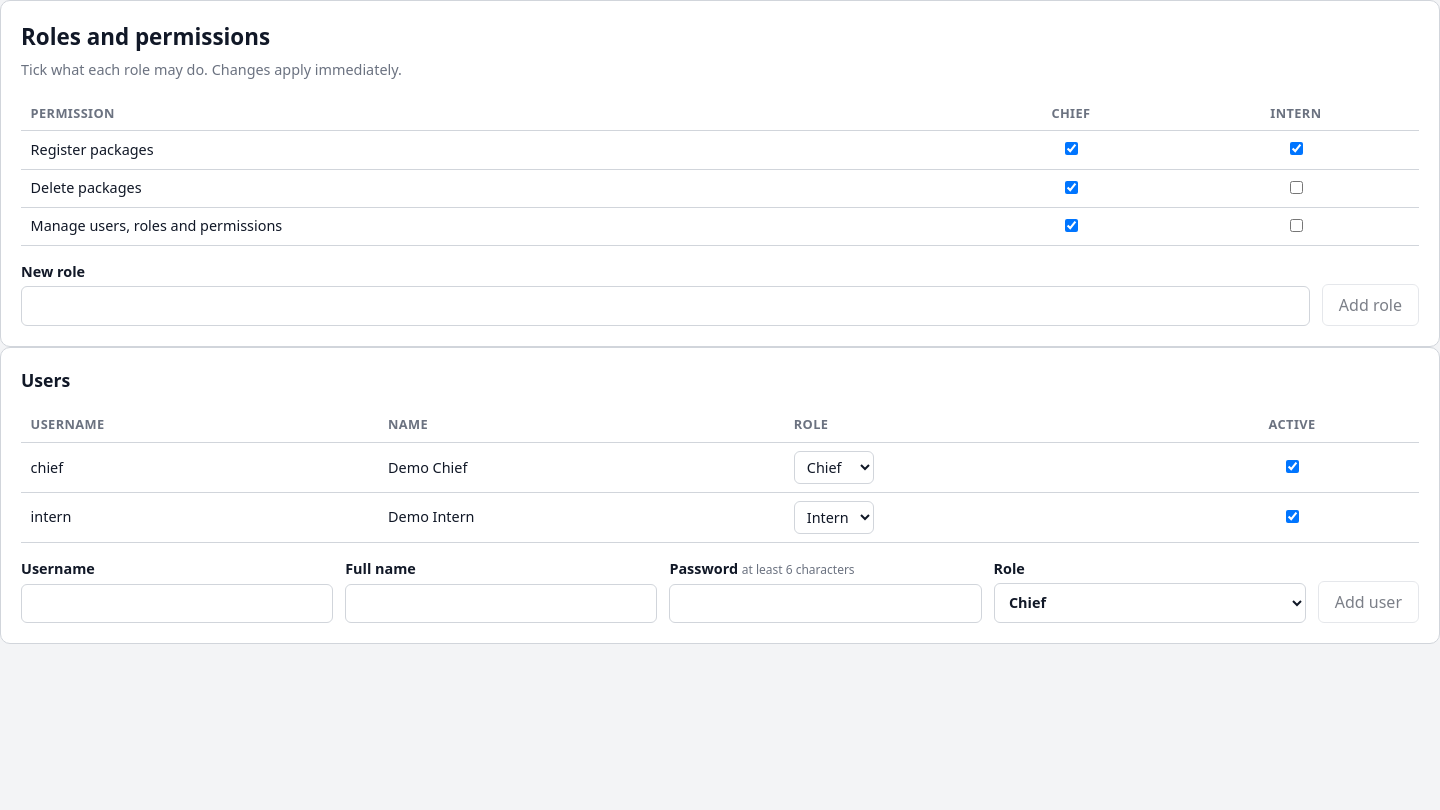
adds a user
The image size is (1440, 810).
Check: the checkbox named "Intern: Delete packages" is shown, box [1290, 181, 1303, 194]
Check: the button "Add user" is disabled, box [1318, 581, 1419, 623]
Type "anna" into the field labelled "Username" at (177, 603), box [21, 584, 333, 623]
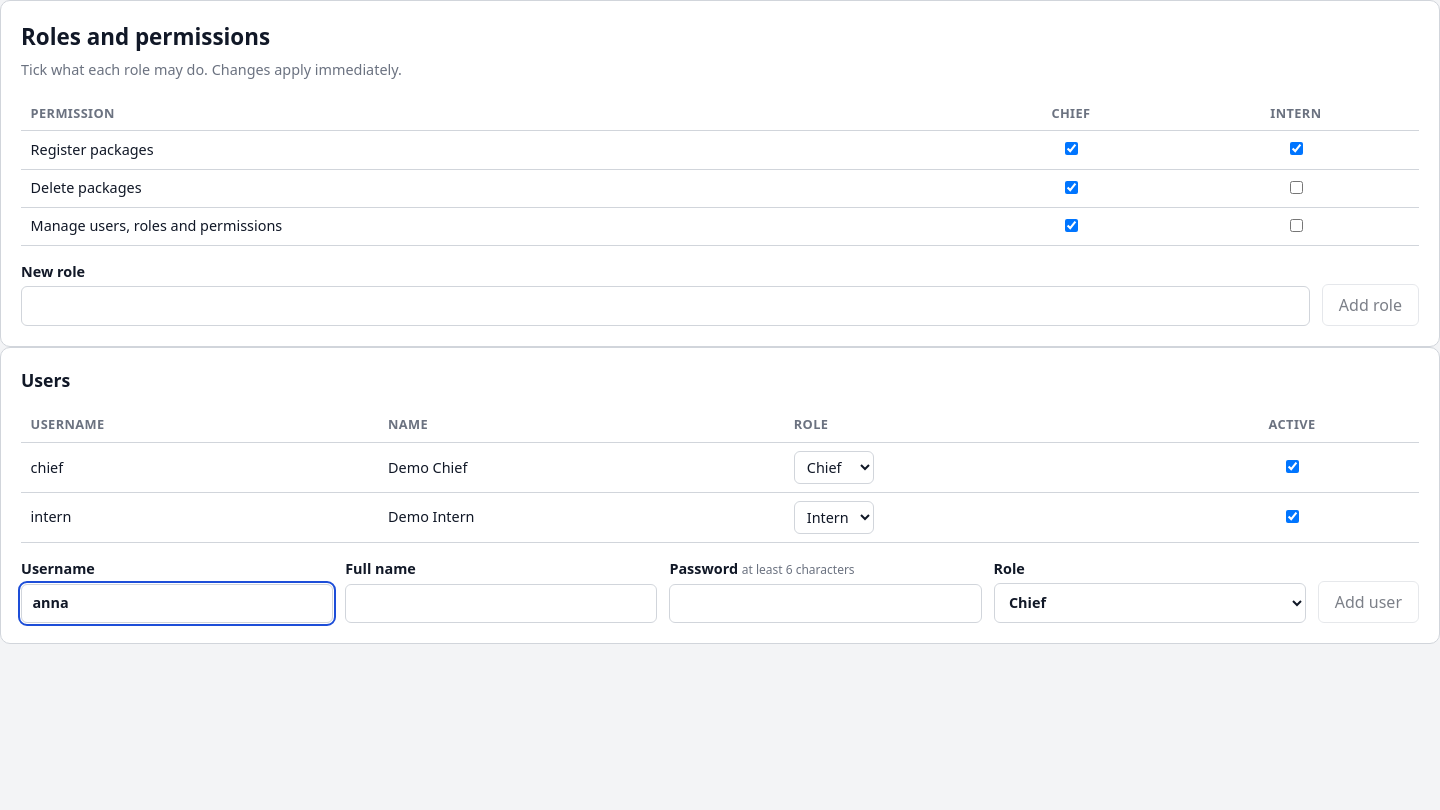
Type "Anna Berg" into the field labelled "Full name" at (501, 603), box [345, 584, 657, 623]
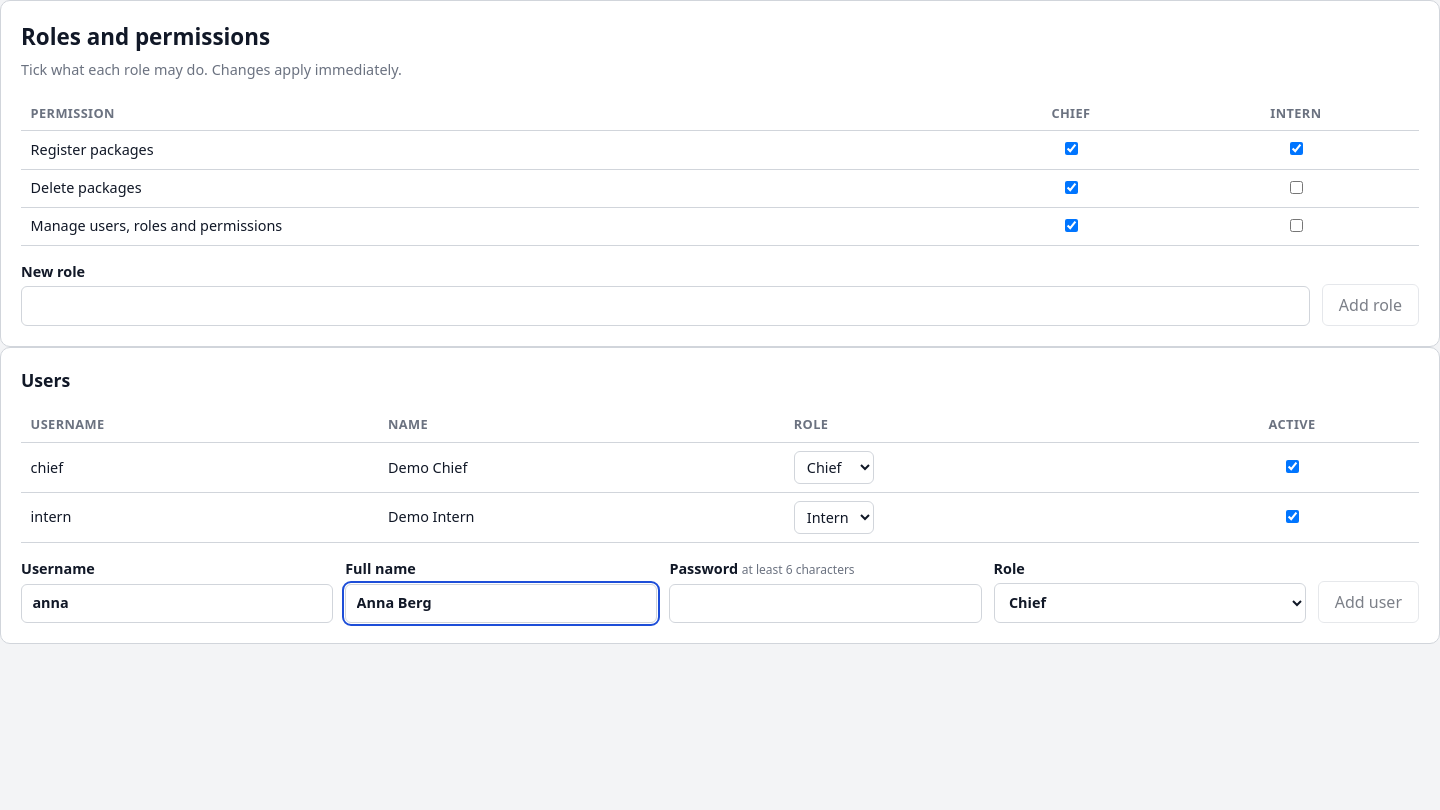
Type "anna-pass" into the password field labelled "Password at least 6 characters" at (826, 603), box [669, 584, 982, 623]
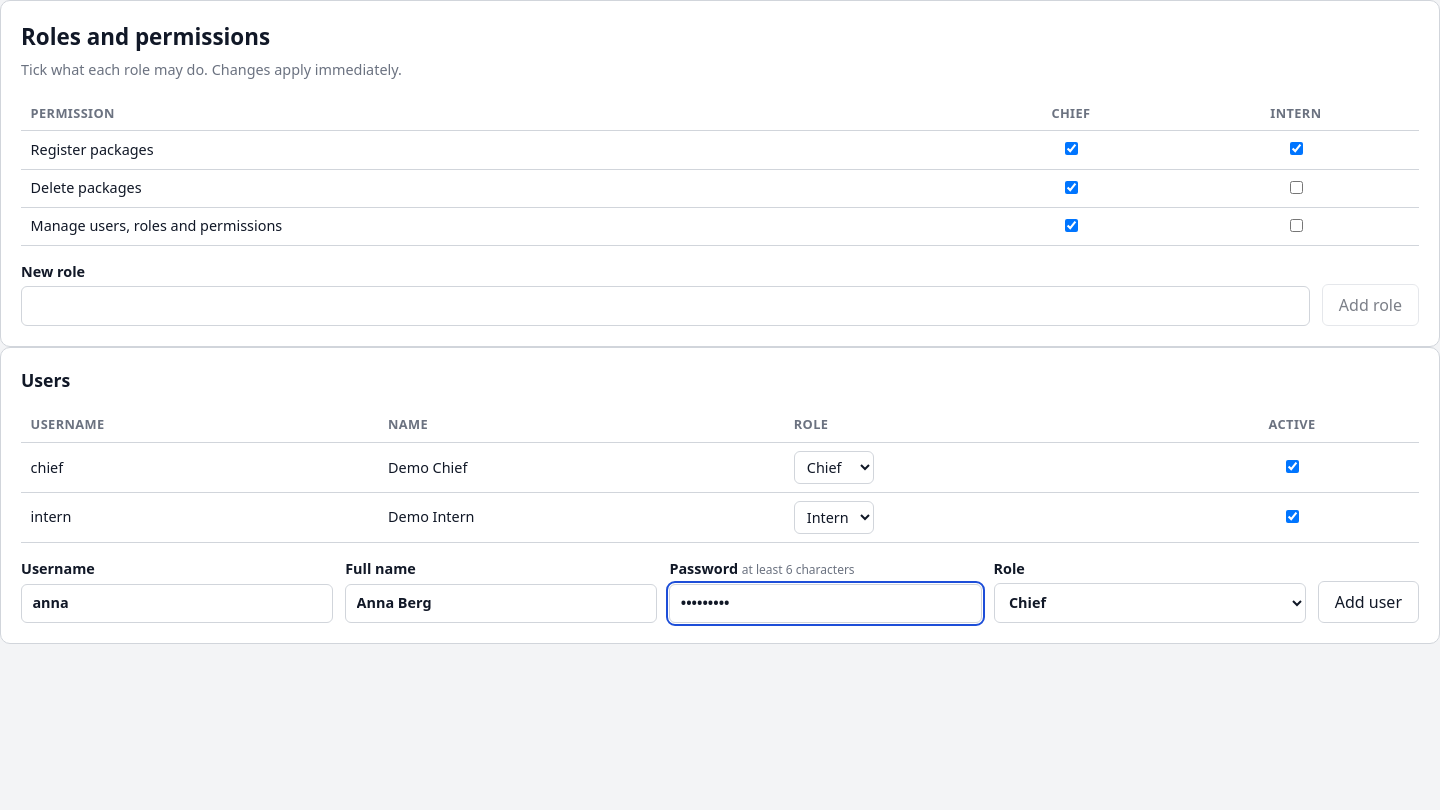
Select "Intern" in the dropdown named "Role of the new user" at (1150, 603), box [994, 583, 1306, 623]
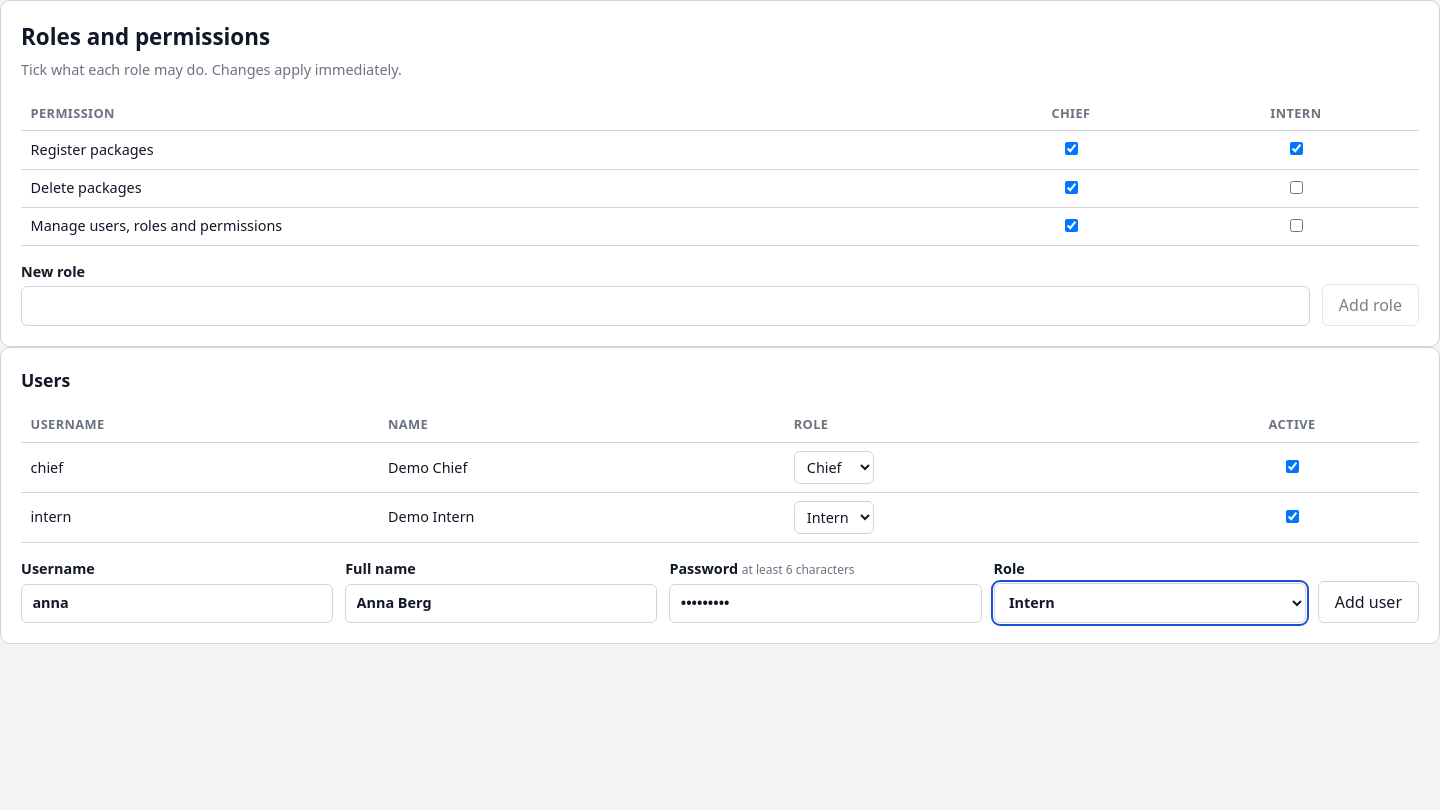
Click the button "Add user" at (1368, 602), box [1318, 581, 1419, 623]
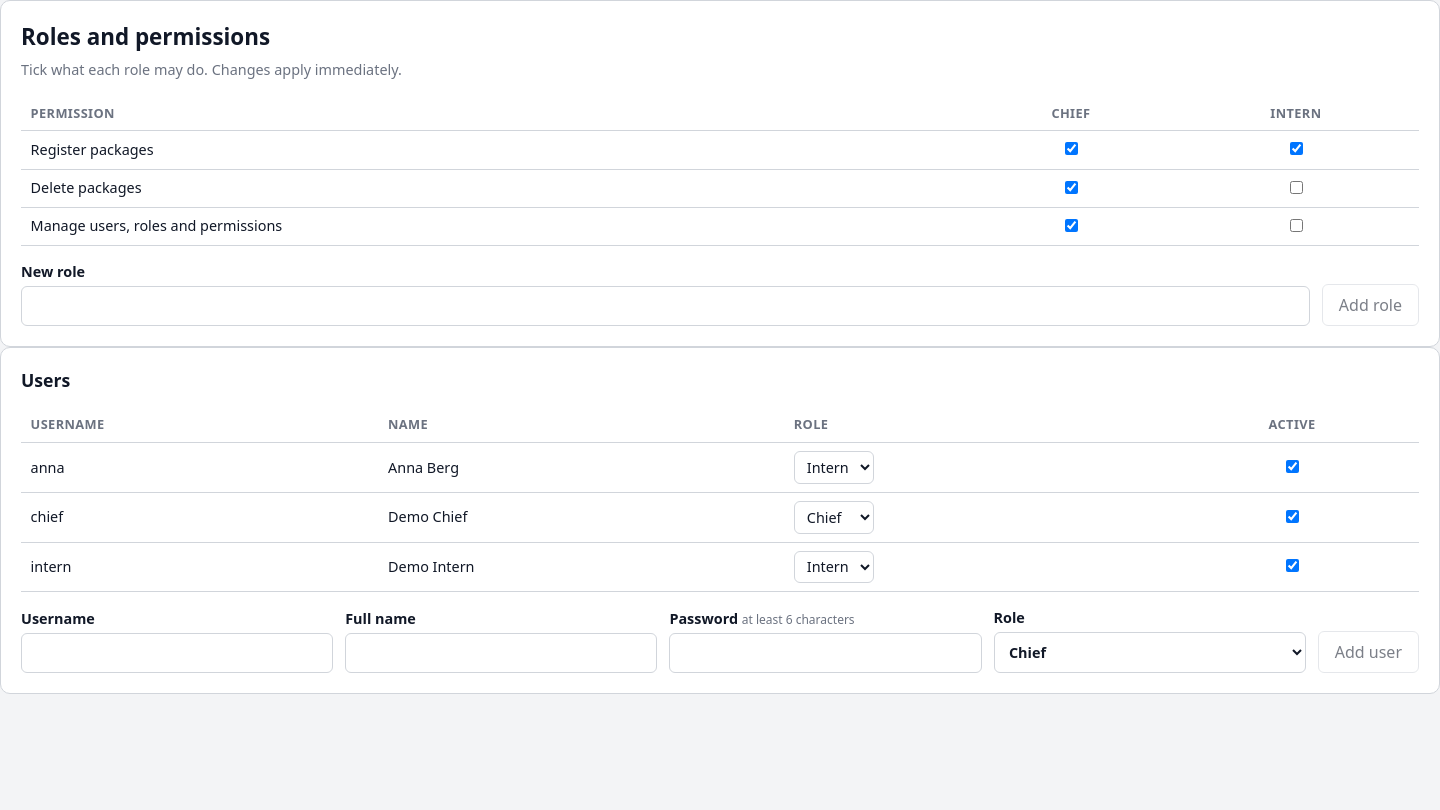
Check: the dropdown named "Role of anna" shows "Intern", box [794, 451, 874, 484]
Check: the field labelled "Username" is empty, box [21, 633, 333, 673]
